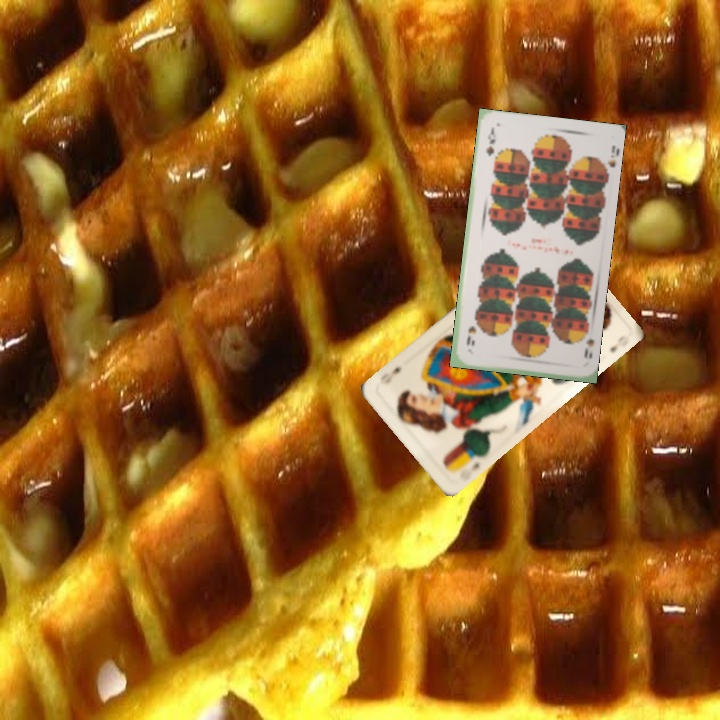EO: (455, 450, 483, 483)
S9: (577, 325, 597, 361), (482, 124, 498, 158)
